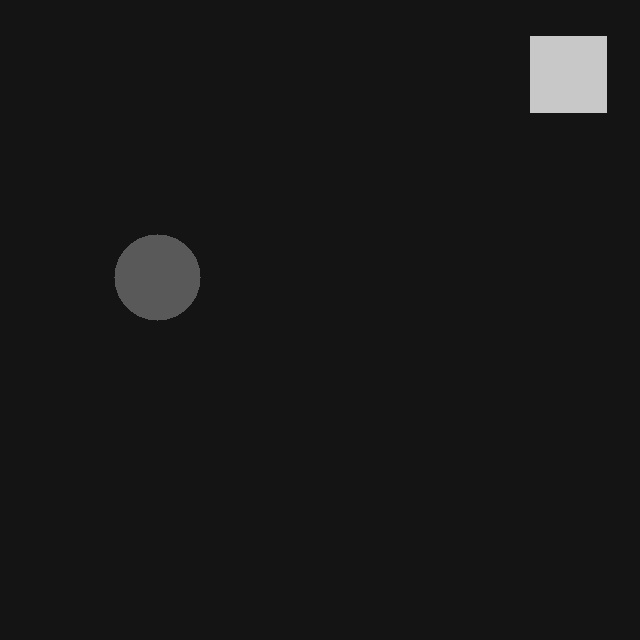circle: (114, 234, 200, 320)
square: (530, 36, 606, 112)
